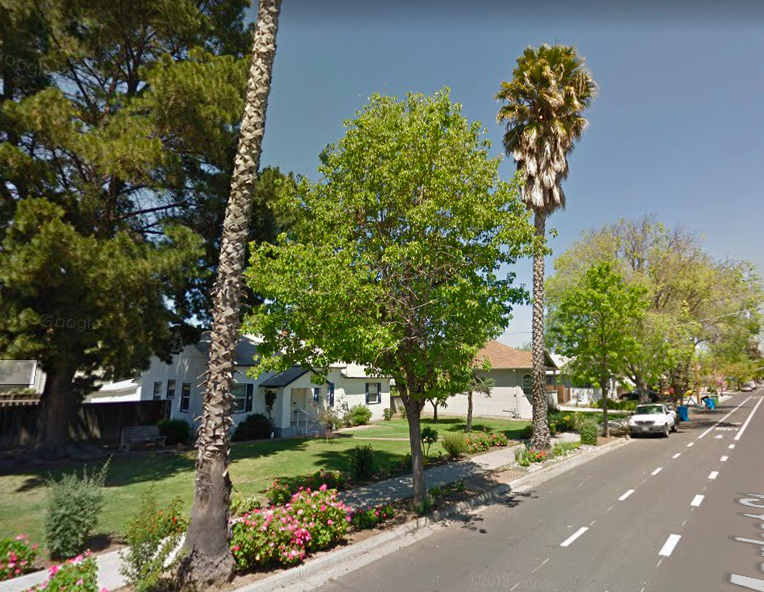tree: (238, 83, 558, 512)
